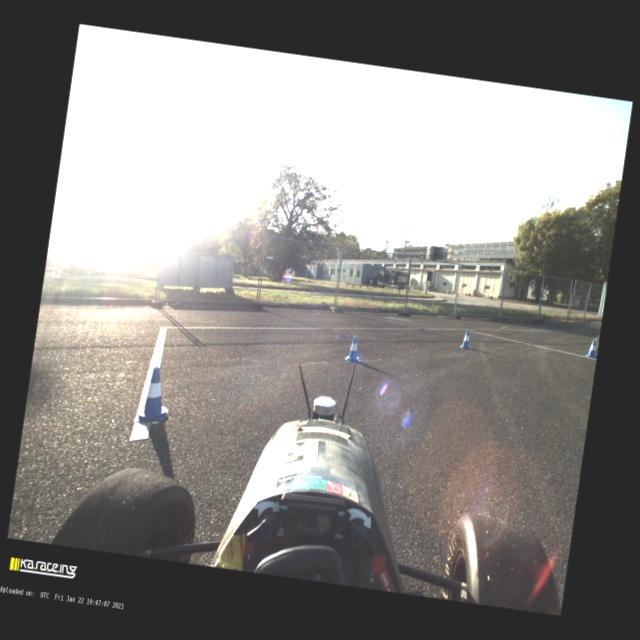blue_cone: (134, 364, 175, 426), (344, 334, 364, 364), (459, 330, 474, 350), (586, 339, 598, 358)
